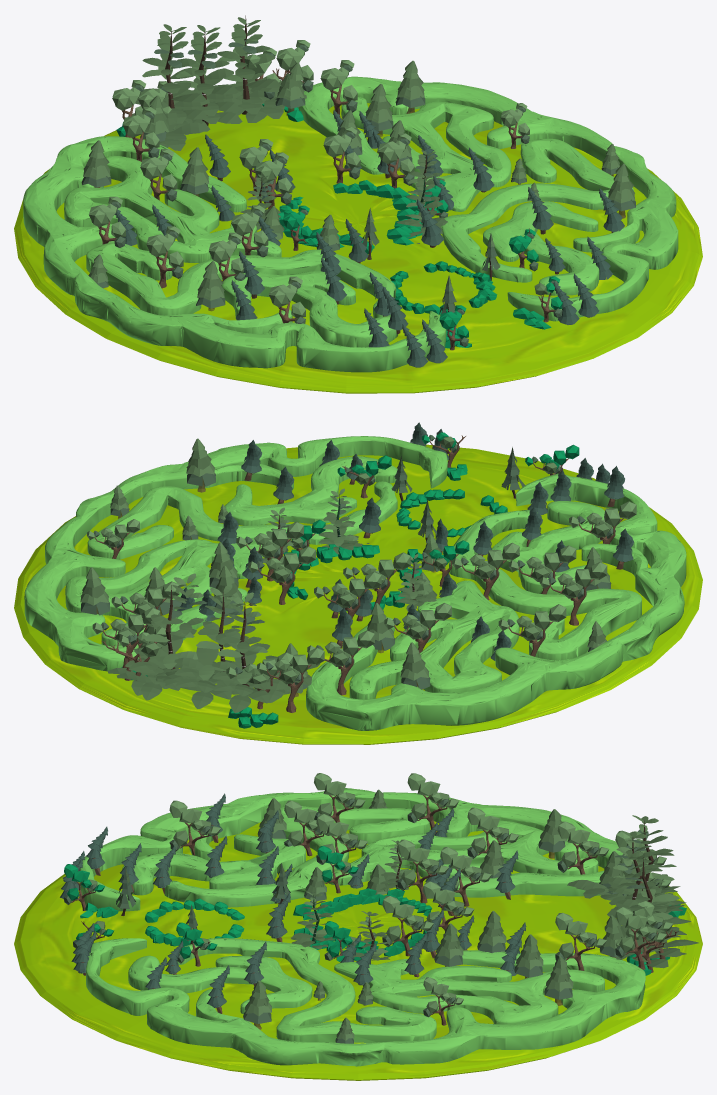
File: FONDO BOSQUE SIN COSAS.fbx
3 renders of one model, top to bottom at view 1: azimuth 30°, elevation 25°; view 2: azimuth 150°, elevation 25°; view 3: azimuth 270°, elevation 25°, orthographic. The views are drawn at different scales.
Parts seen in each view (by area): view 1: Plane.276; view 2: Plane.276; view 3: Plane.276.
Part boxes in pixels (left/top/right/bottom): Plane.276: left=14, top=15, right=702, bottom=393; Plane.276: left=14, top=422, right=702, bottom=744; Plane.276: left=14, top=773, right=702, bottom=1080.
Size of the model in its own units: 7526 by 1657 by 8047.
